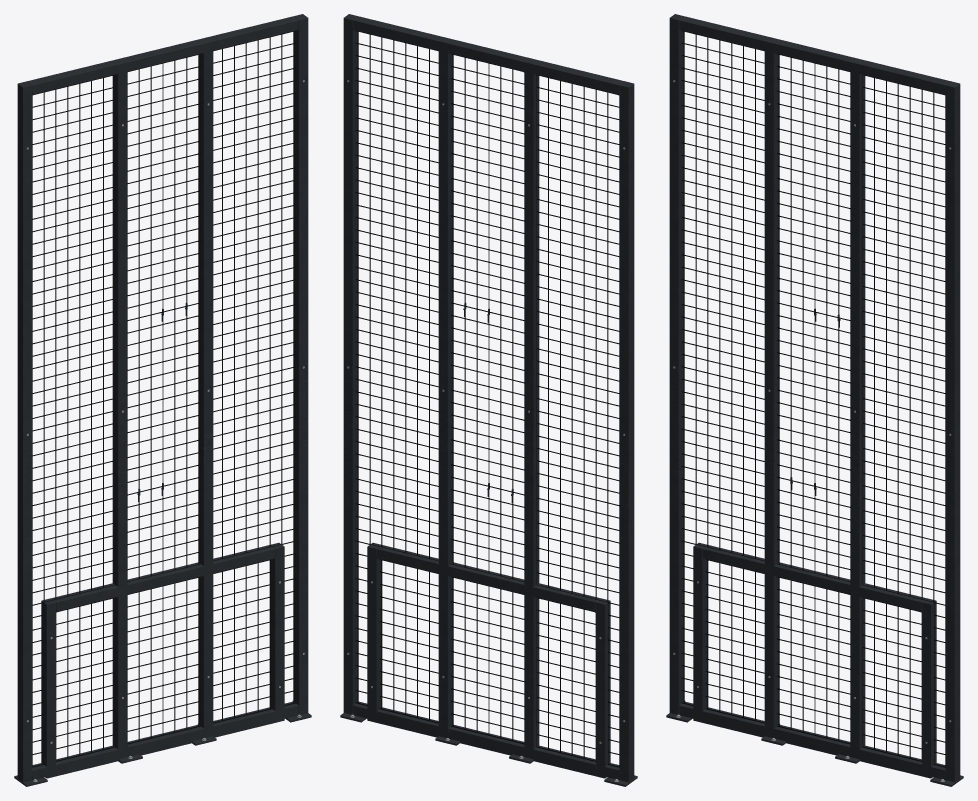
Rendered from cage_partition_kit.glb.
3 renders of one model, left to right at view 1: azimuth 30°, elevation 25°; view 2: azimuth 150°, elevation 25°; view 3: azimuth 330°, elevation 25°, orthographic.
Visible parts, largest first — view 1: panel_1200, panel_400, header_1000; view 2: panel_1200, panel_400, header_1000; view 3: panel_1200, panel_400, header_1000.
Part boxes in pixels (x1,y1,x2,y2): panel_1200: (14, 14, 311, 786); panel_400: (112, 37, 216, 763); header_1000: (41, 542, 284, 778); panel_1200: (340, 14, 637, 786); panel_400: (435, 37, 539, 763); header_1000: (367, 542, 610, 778); panel_1200: (666, 14, 963, 786); panel_400: (761, 37, 865, 763); header_1000: (693, 542, 936, 778).
Bounding box in the file's own units: 1.2 × 2.8 × 0.09.
3 materials, 3 textured.
